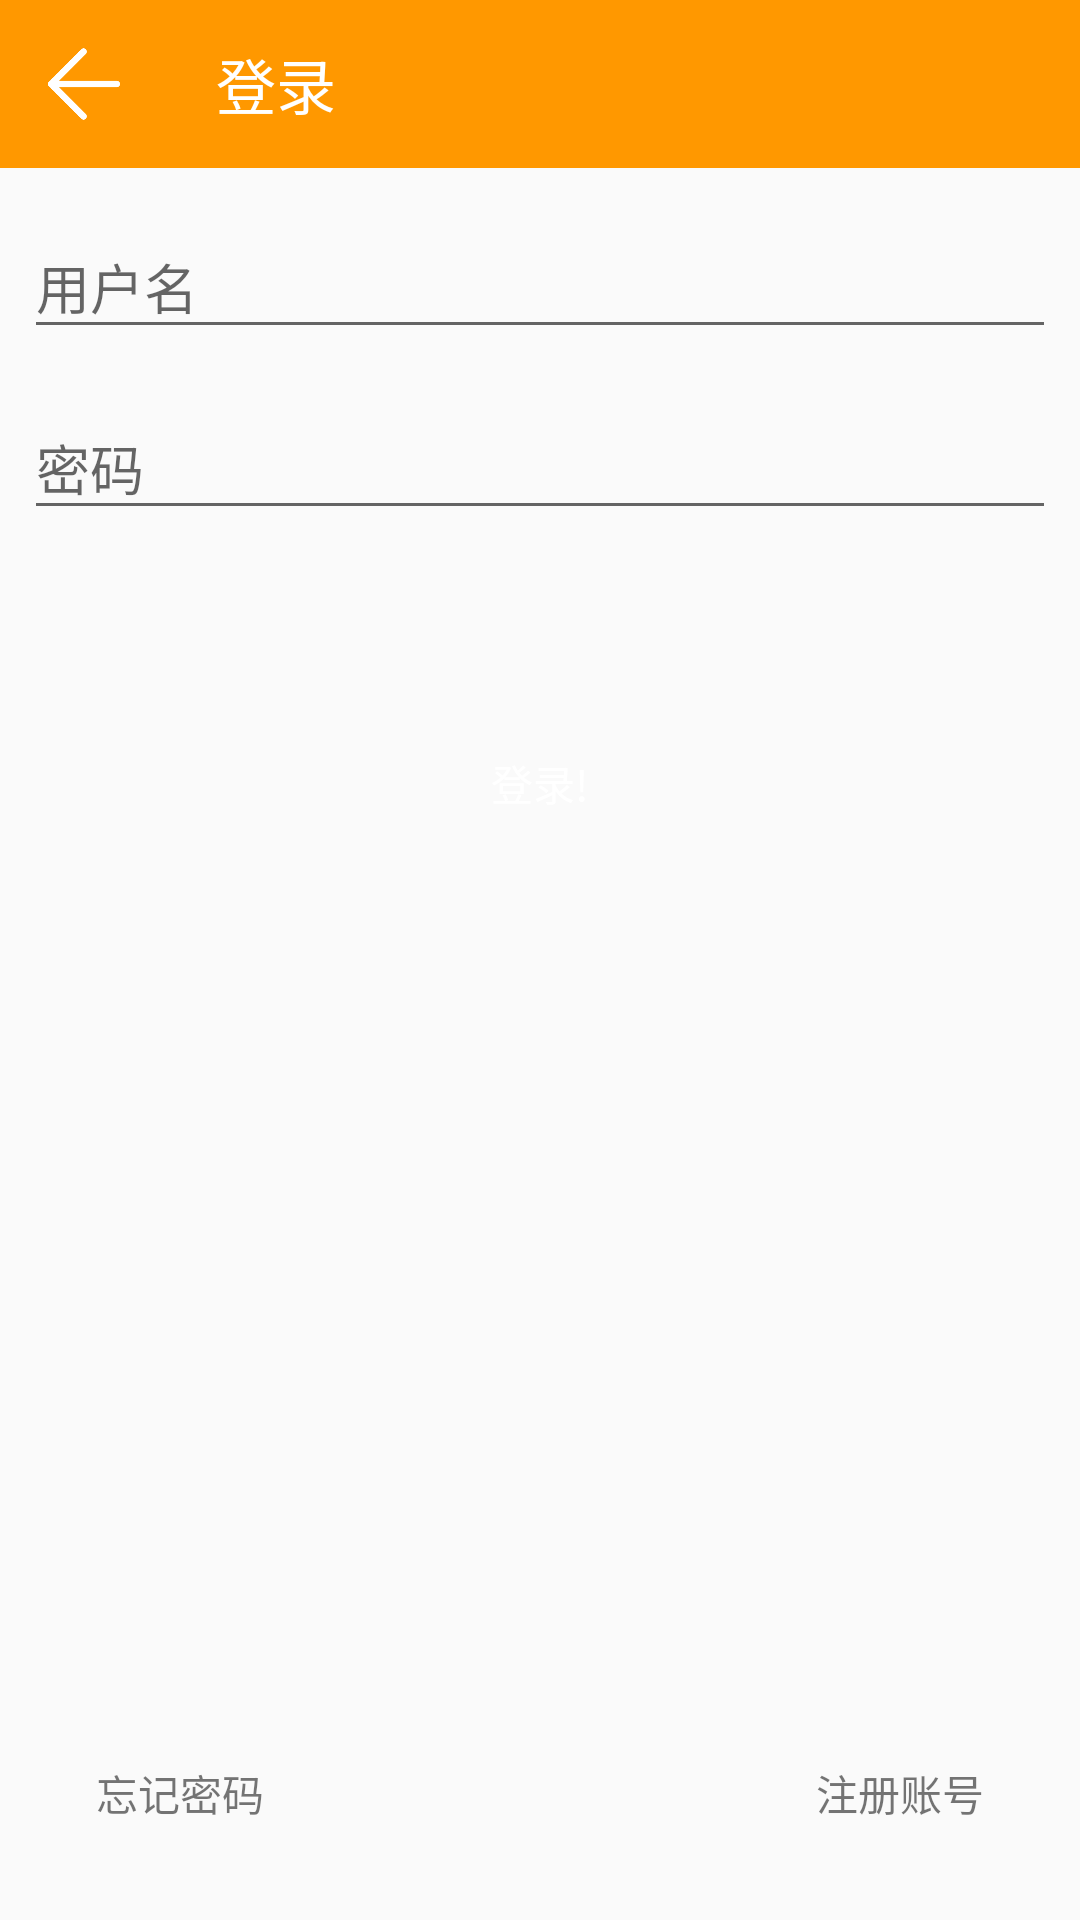

Locate icon controls on the screen. Image size 1080 × 1920, boxes as (x1, y1, x2, y2).
array back: (48, 48, 120, 120)
